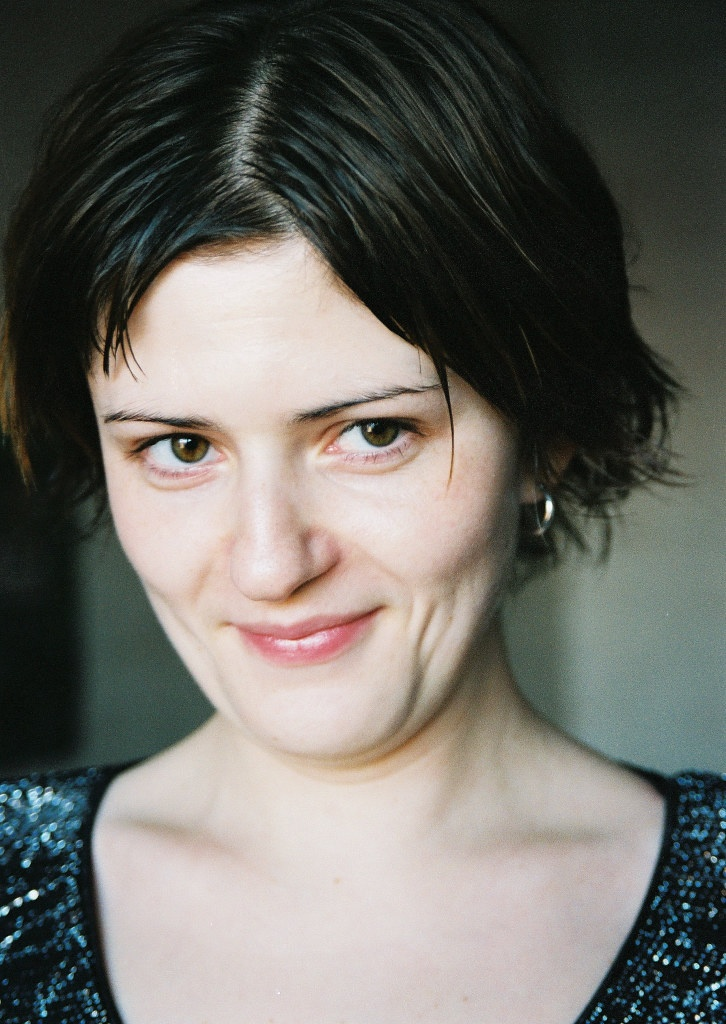without_mask: (83, 195, 546, 760)
